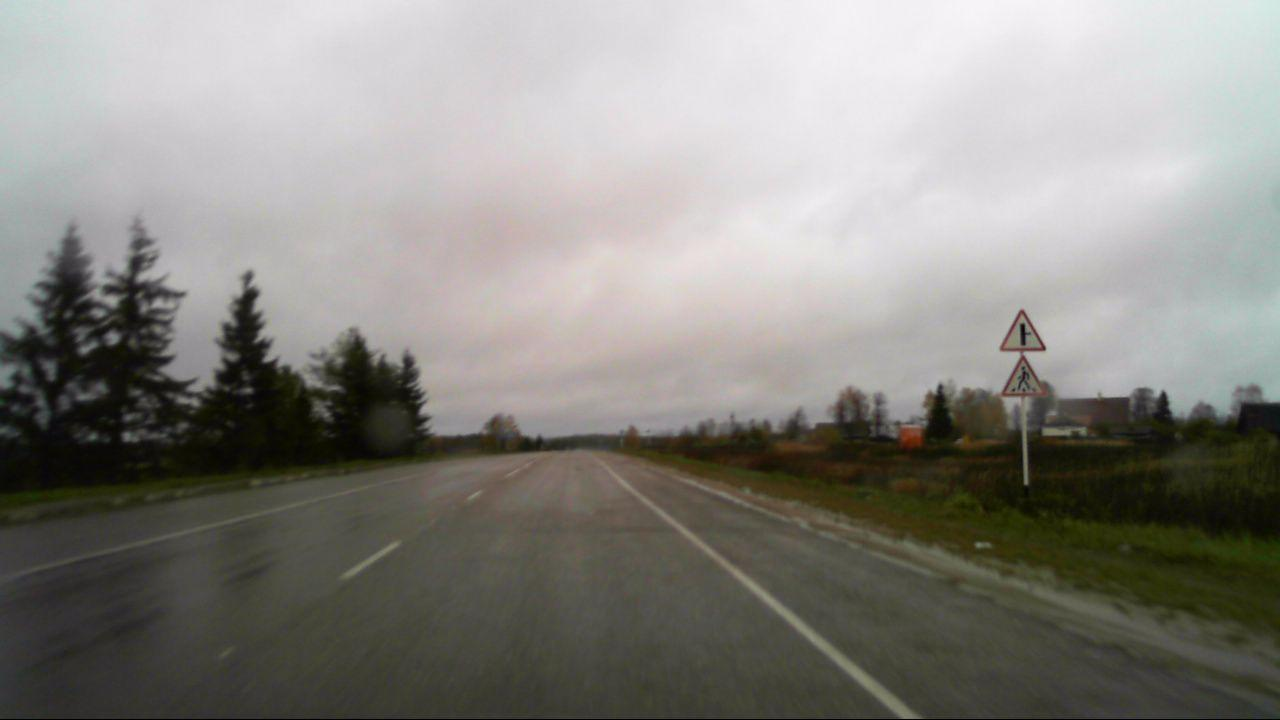1_22: (1002, 353, 1047, 398)
2_3_2: (1000, 307, 1048, 350)
